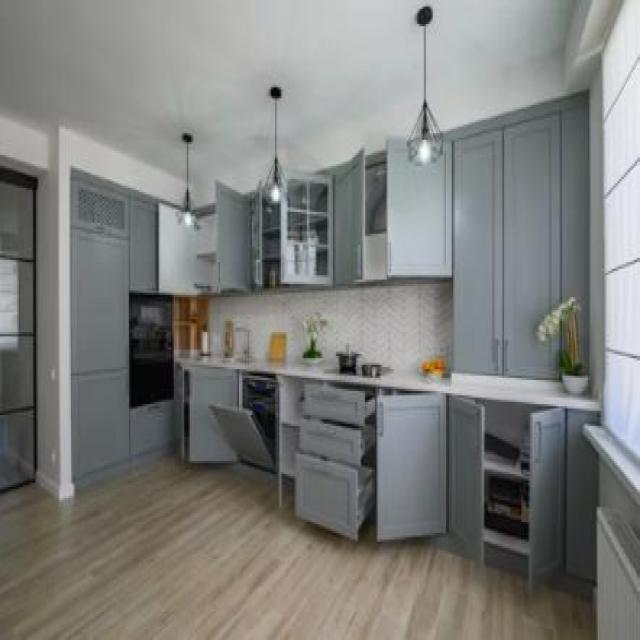dishwasher: (205, 369, 282, 481)
